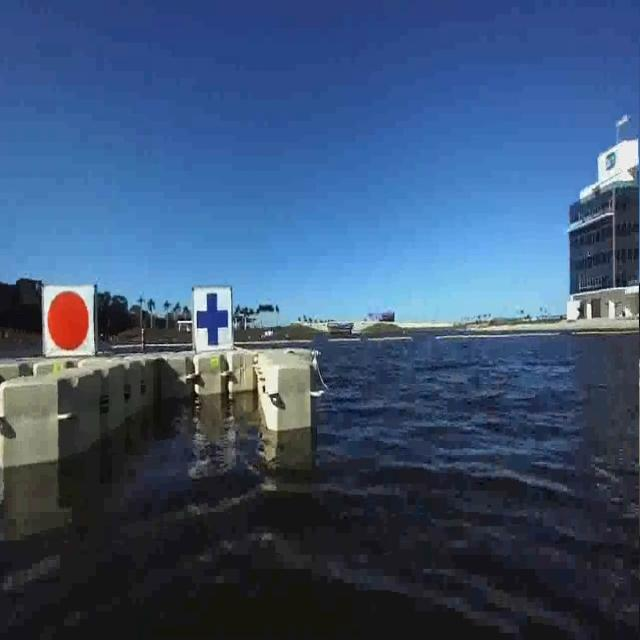blue-cross: (190, 282, 237, 351)
red-dot: (40, 281, 98, 359)
